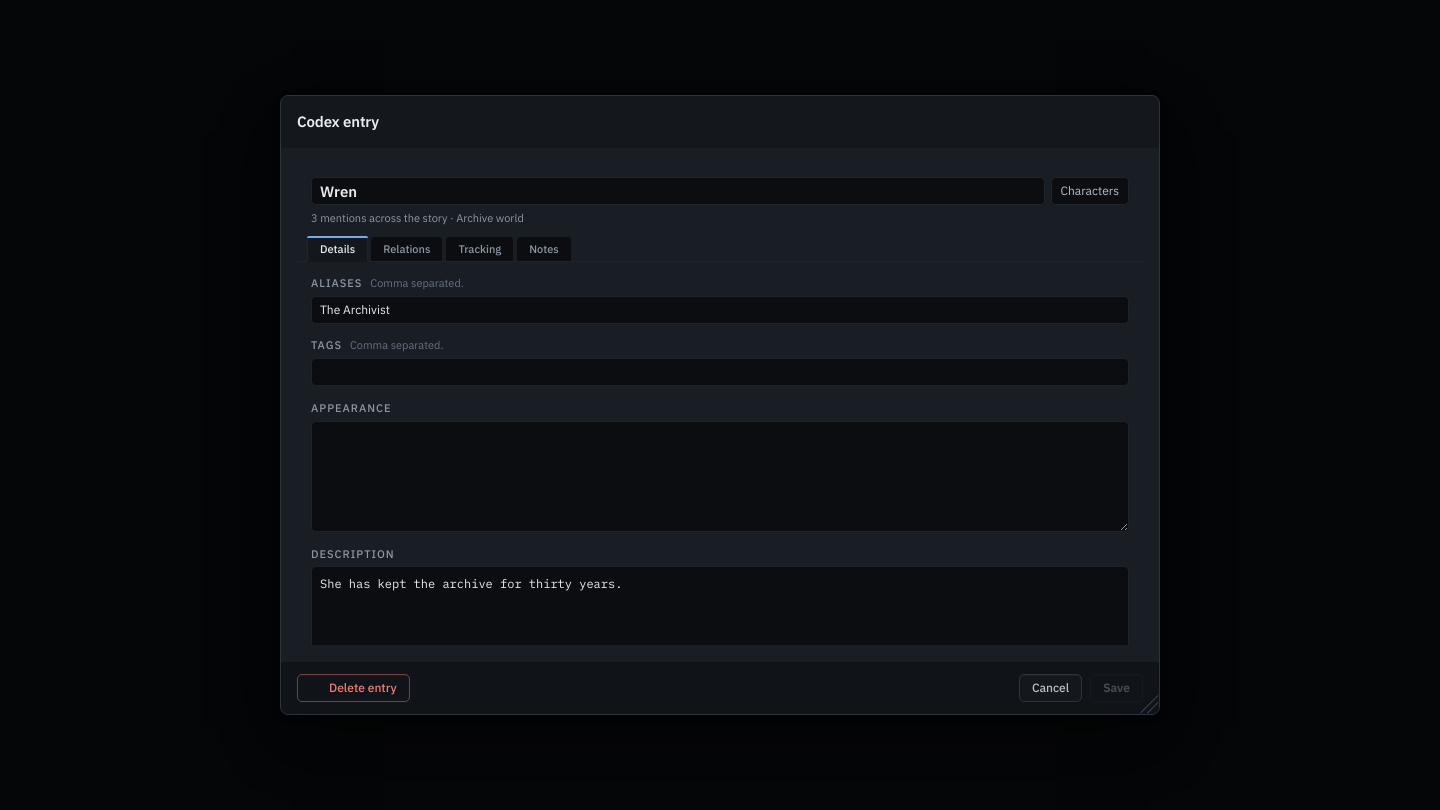
CodexEntryDialog › reaches every field group
Click the tab "Relations" at (407, 249), box x1=370 y1=236 x2=443 y2=262
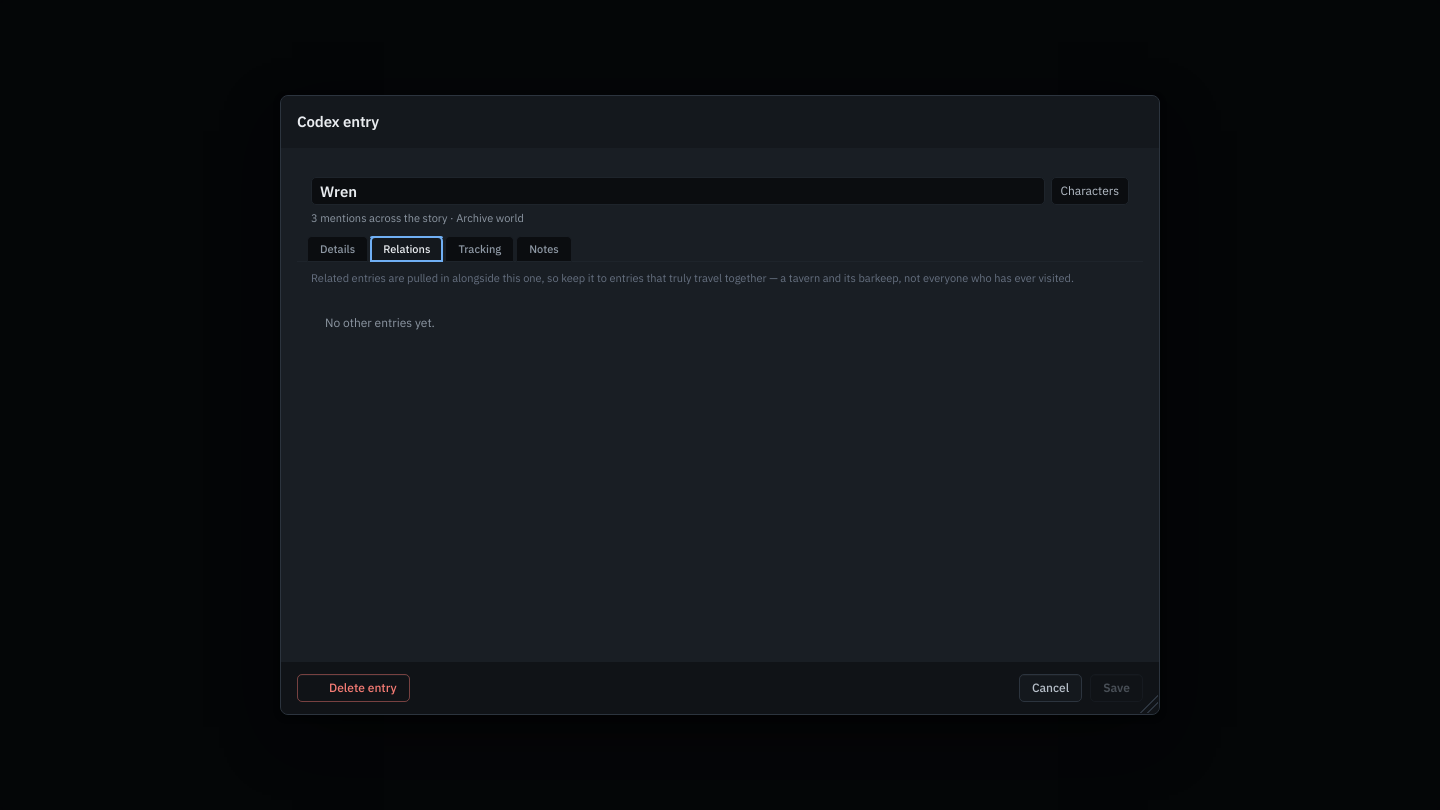
Result: the text "Related entries are pulled in" is shown at x1=311 y1=271 x2=1074 y2=285
Click the tab "Tracking" at (480, 249), box x1=445 y1=236 x2=514 y2=262
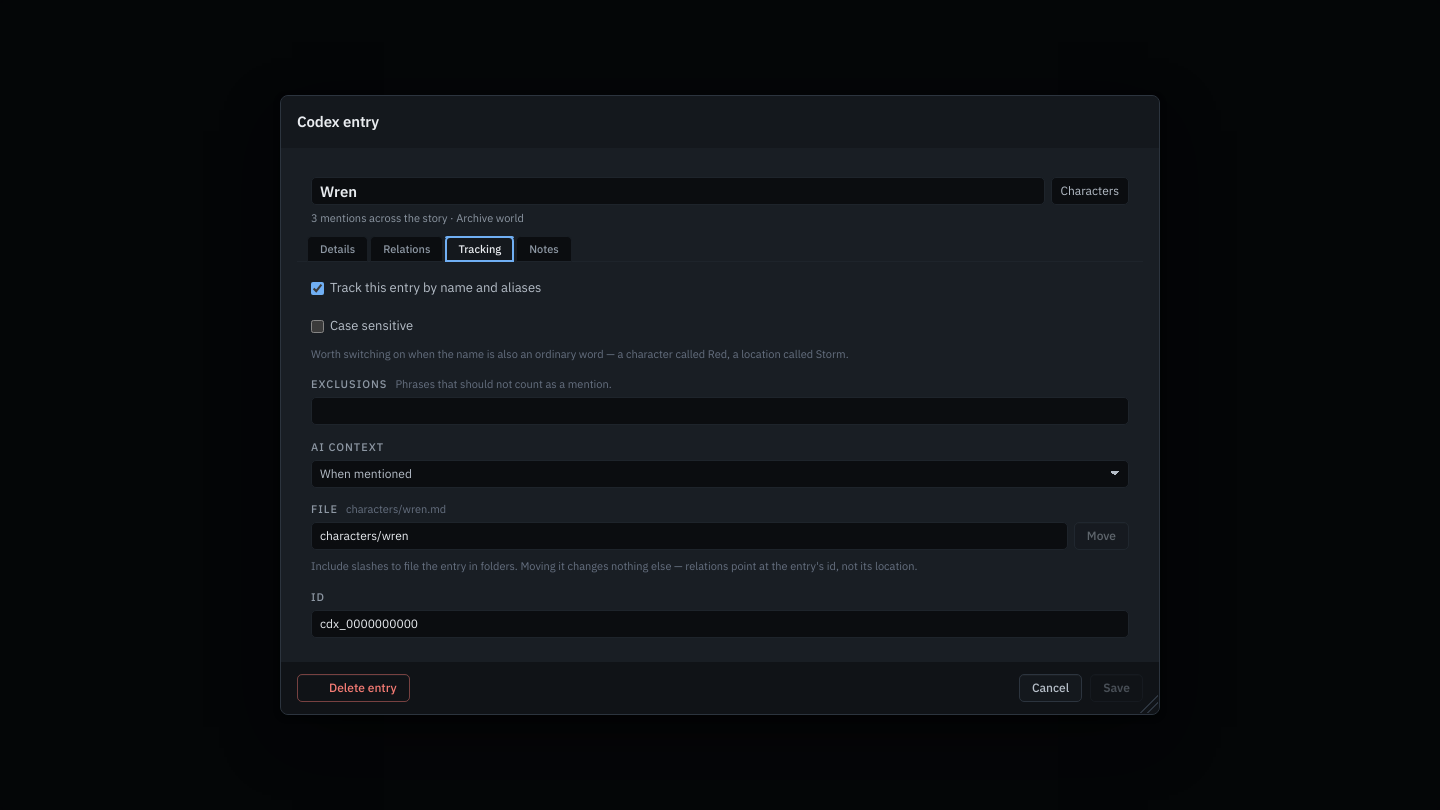
Result: the text "Track this entry by name and aliases" is shown at x1=330 y1=279 x2=541 y2=297
Click the tab "Notes" at (544, 249), box x1=516 y1=236 x2=572 y2=262
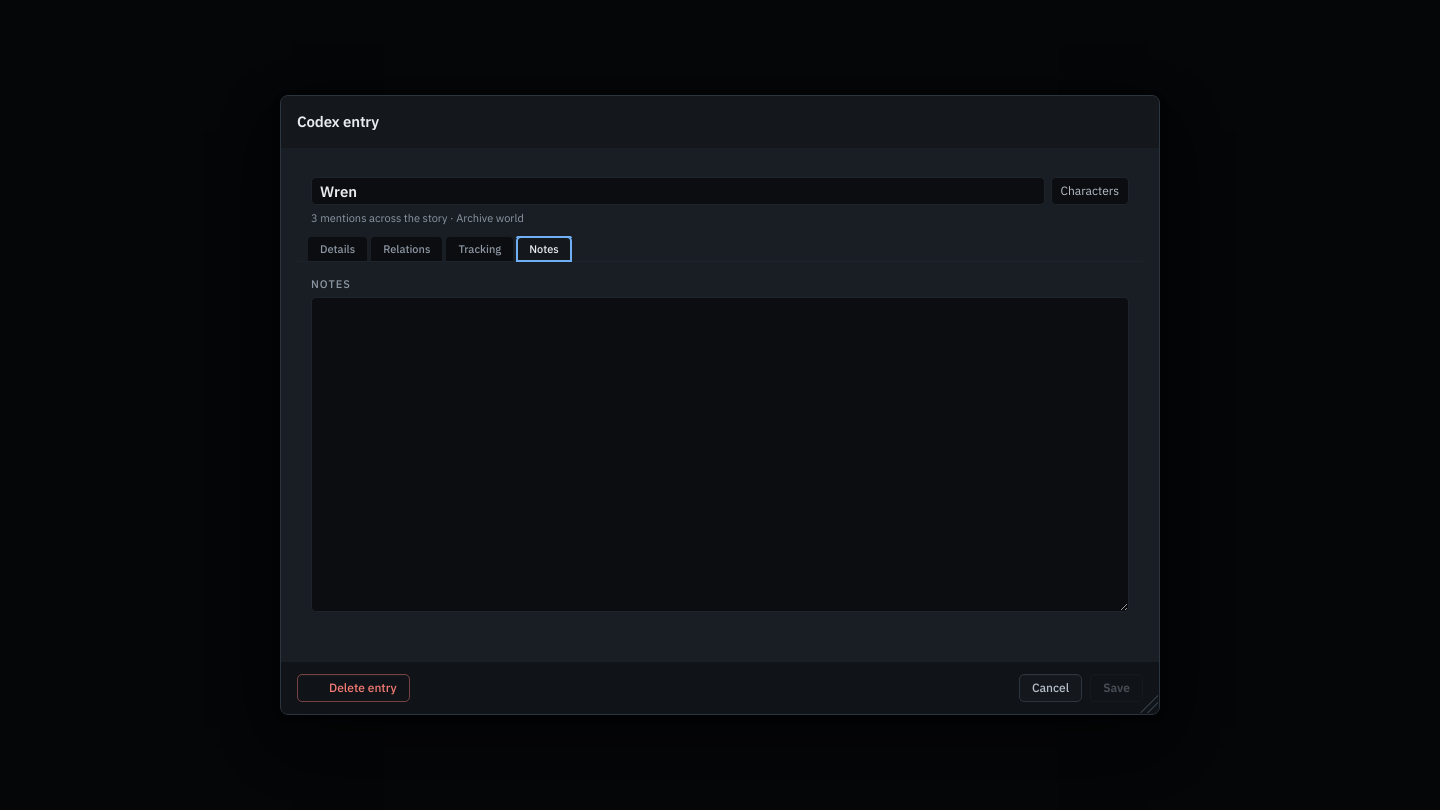
Result: the text box labelled "Notes" is shown at x1=311 y1=297 x2=1129 y2=612
